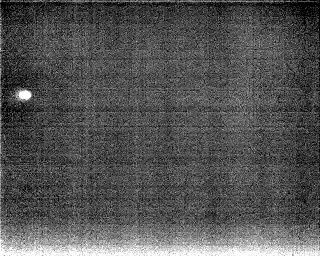AIRPLANE: (15, 86, 34, 104)
